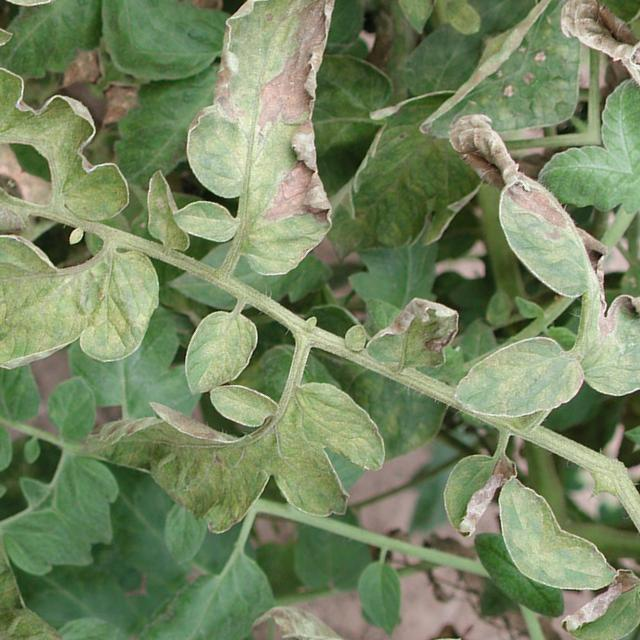Tomato mold leaf: (109, 0, 501, 296), (395, 96, 640, 416), (0, 149, 195, 473), (22, 32, 228, 242), (433, 301, 603, 471), (158, 290, 286, 419), (353, 274, 478, 401), (459, 470, 569, 580), (197, 359, 297, 457)
